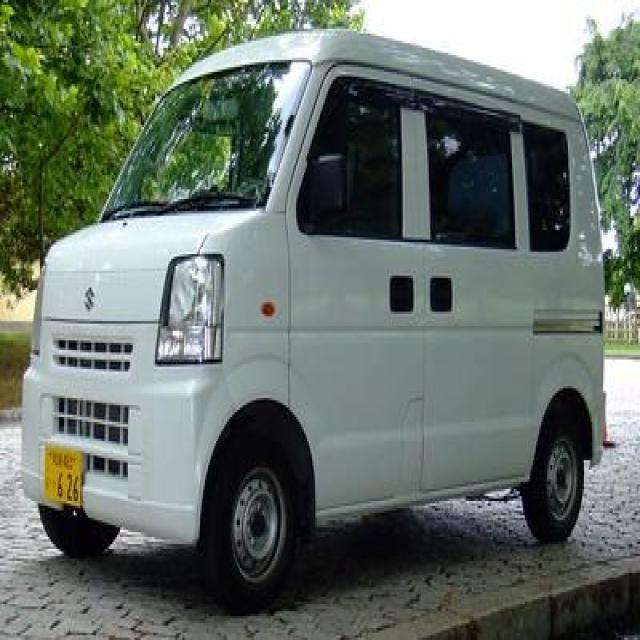Van: (49, 79, 600, 508)
